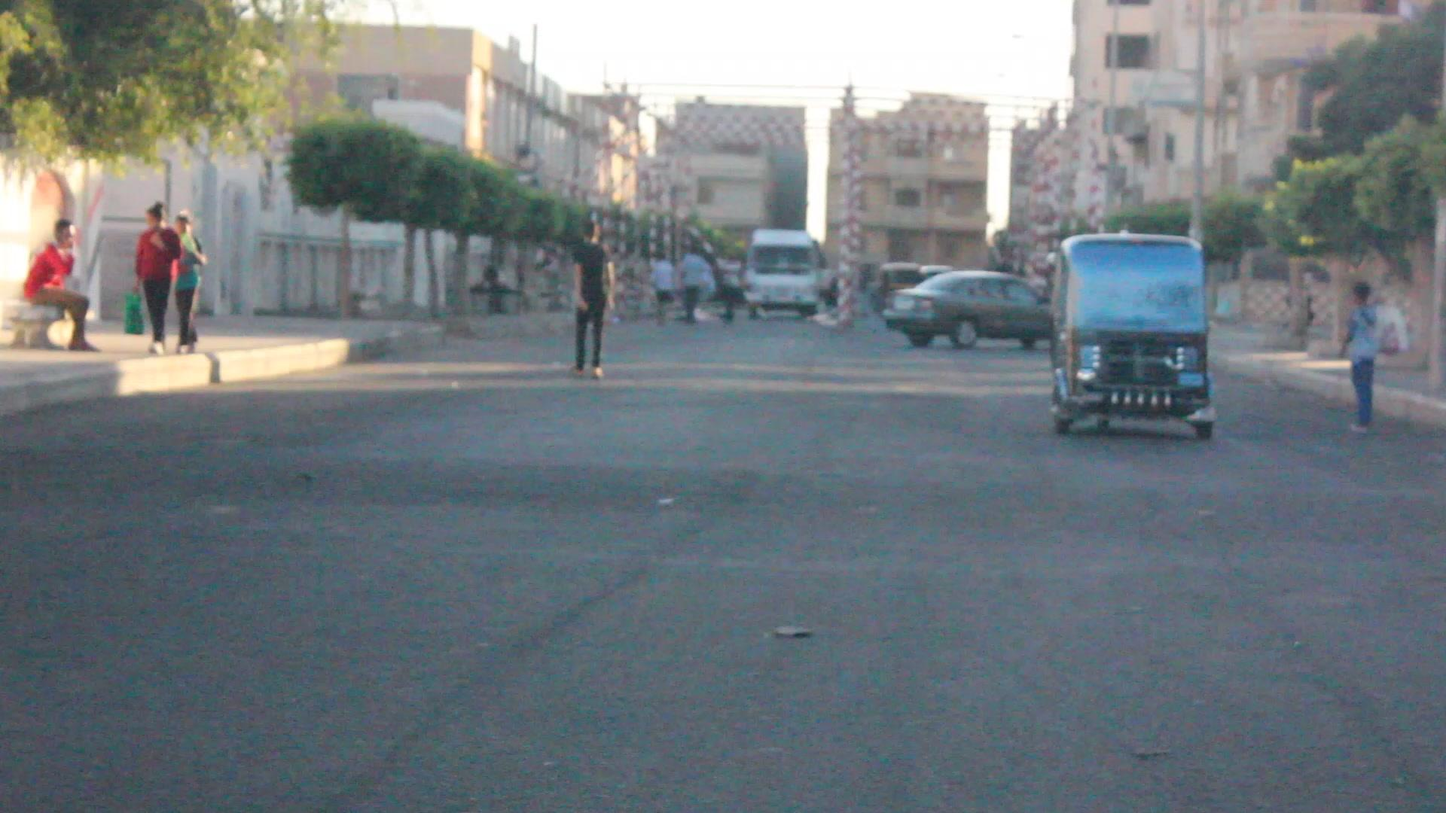Bump: (8, 435, 1446, 563)
